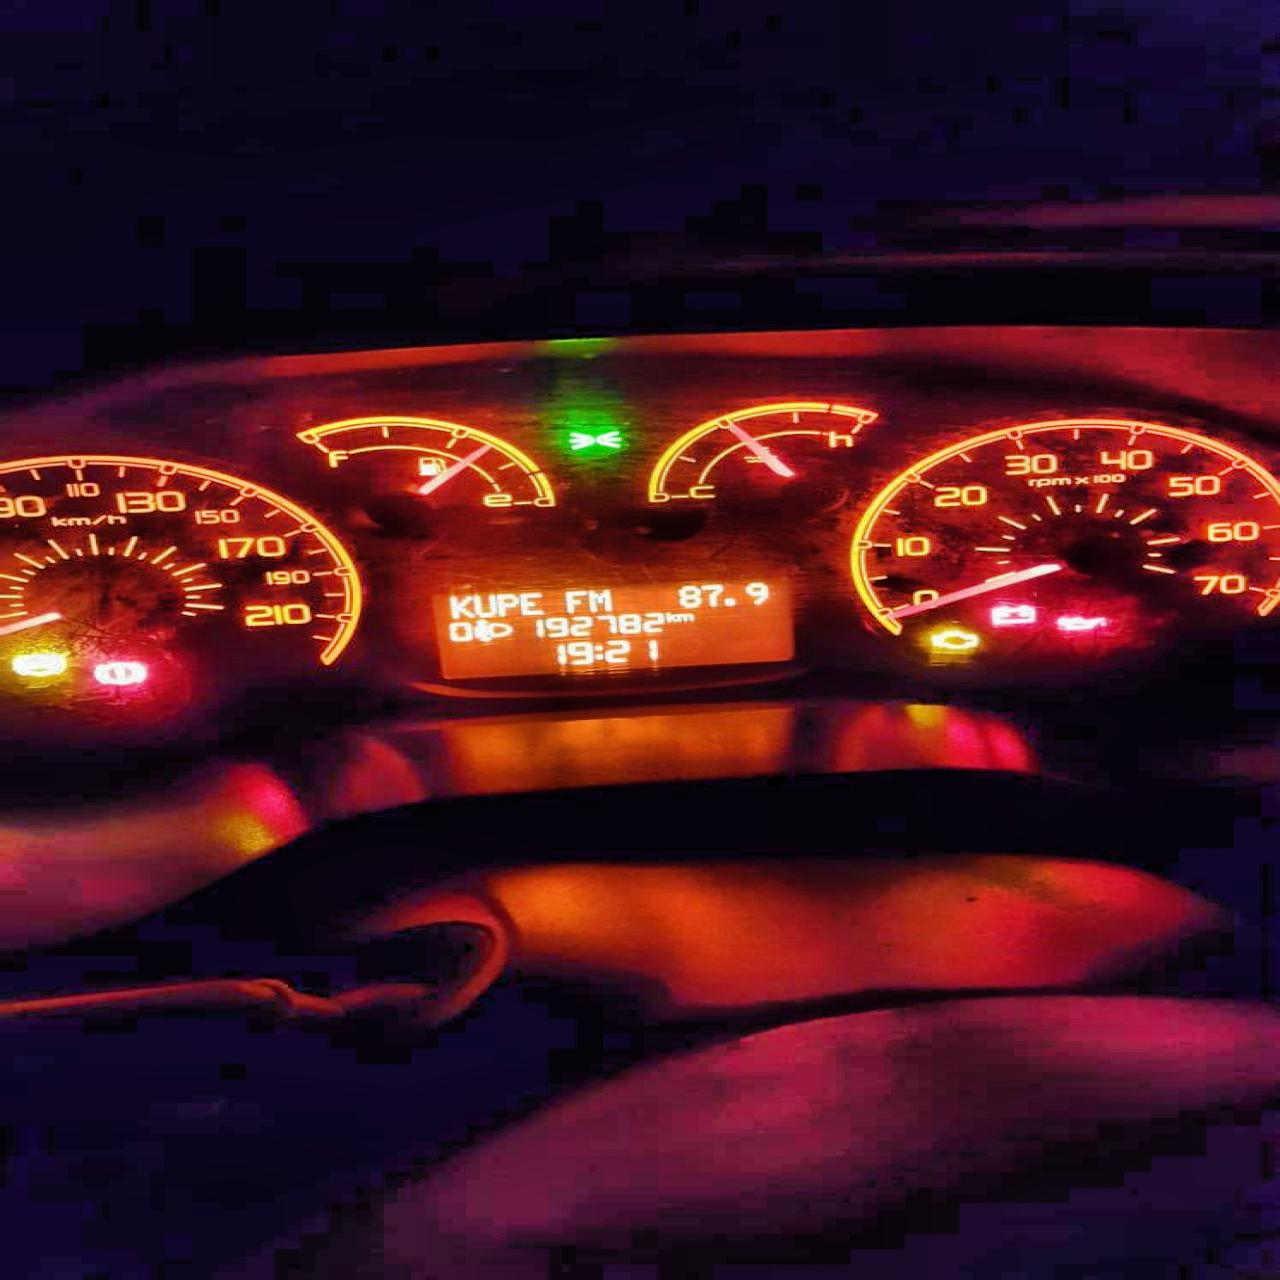-: (720, 595, 738, 607)
0: (448, 621, 472, 642)
1: (646, 636, 661, 661), (533, 618, 545, 638), (556, 644, 564, 663)
2: (607, 638, 632, 663), (568, 614, 593, 636), (642, 611, 663, 633)
7: (701, 583, 721, 607), (594, 614, 619, 633)
8: (673, 583, 701, 608), (617, 612, 641, 634)
9: (742, 580, 772, 606), (566, 640, 591, 663), (545, 617, 568, 636)
X: (516, 591, 546, 617), (586, 588, 615, 612), (471, 592, 497, 618), (448, 594, 472, 619), (561, 588, 586, 613), (497, 591, 517, 618), (593, 642, 605, 662), (675, 613, 694, 621), (663, 611, 676, 622)
odometer: (424, 574, 801, 680)
